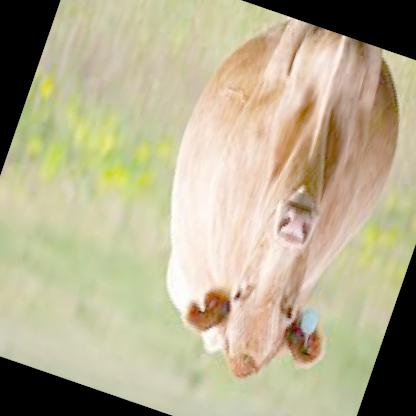Cow: (102, 0, 415, 408)
